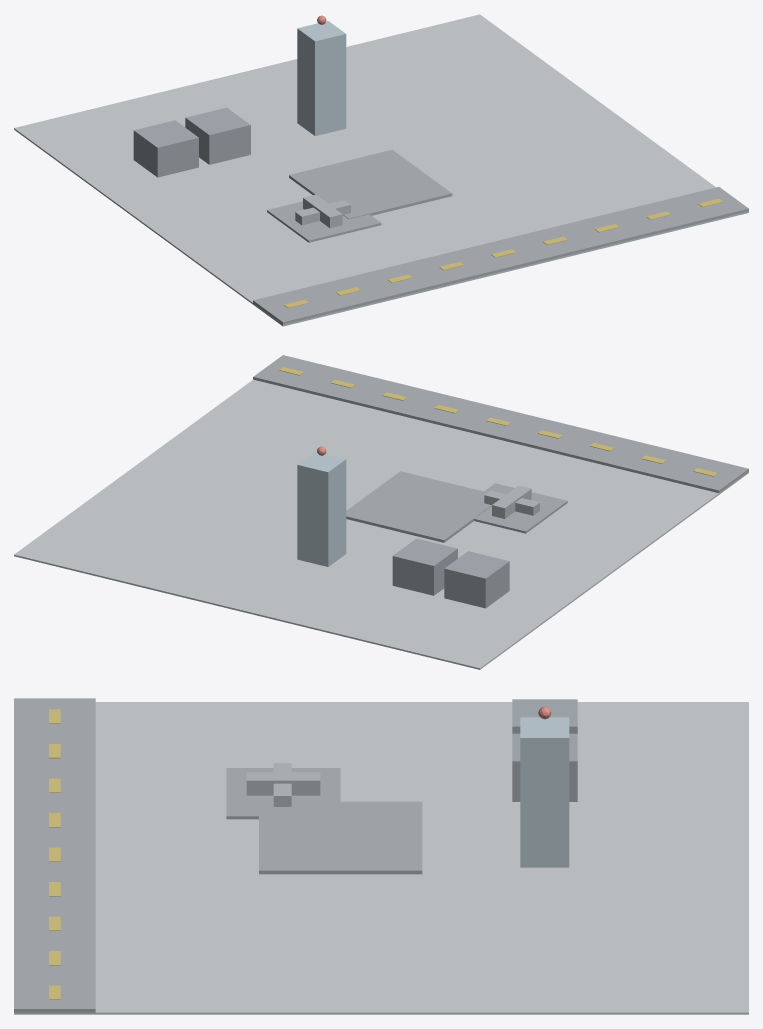
The model's file is stage_05.glb.
3 renders of one model, top to bottom at view 1: azimuth 30°, elevation 25°; view 2: azimuth 150°, elevation 25°; view 3: azimuth 270°, elevation 25°, orthographic. The views are drawn at different scales.
Visible parts, largest first — view 1: geometry_0; view 2: geometry_0; view 3: geometry_0.
Part boxes in pixels (x1,y1,x2,y2): geometry_0: (14,14,748,326); geometry_0: (14,355,748,669); geometry_0: (14,698,748,1014).
Size of the model in its own units: 9 by 2.06 by 9.
